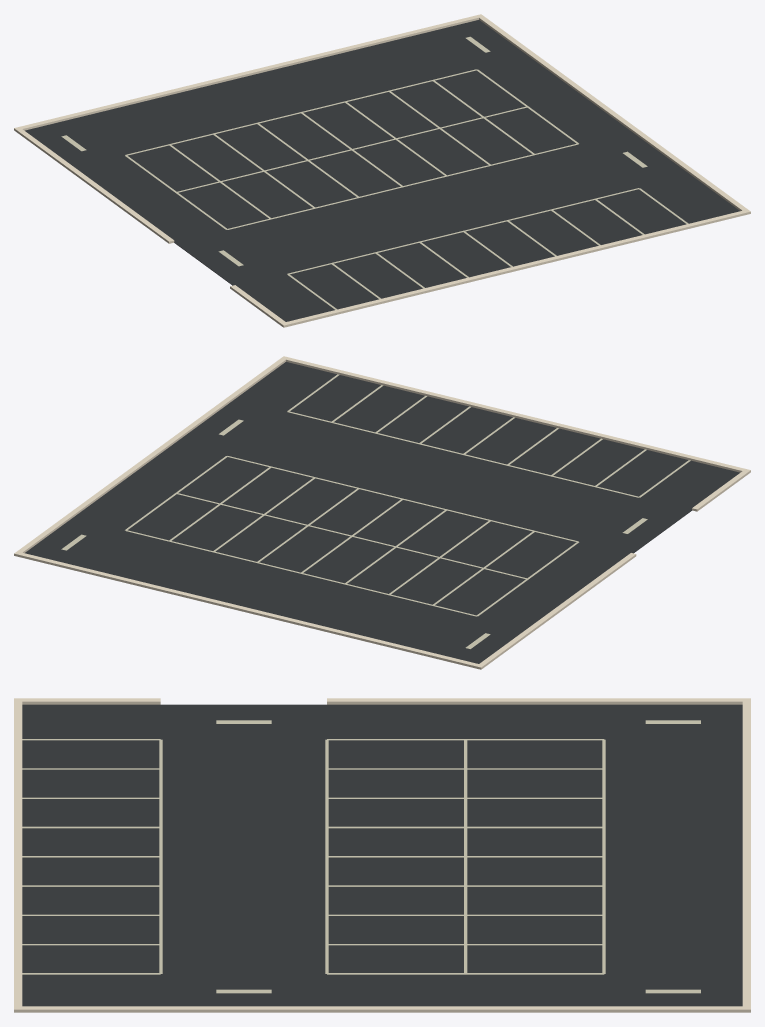
Rendered from oc_parking_01.glb.
The picture shows the model from 3 angles, top to bottom: view 1: azimuth 30°, elevation 25°; view 2: azimuth 150°, elevation 25°; view 3: azimuth 270°, elevation 25°; orthographic projection. The views are drawn at different scales.
Parts seen in each view (by area): view 1: LOD1_OC_Asphalt, LOD1_OC_Stucco_Ivory, LOD1_OC_Line_White; view 2: LOD1_OC_Asphalt, LOD1_OC_Stucco_Ivory, LOD1_OC_Line_White; view 3: LOD1_OC_Asphalt, LOD1_OC_Stucco_Ivory, LOD1_OC_Line_White.
Part boxes in pixels (x1,y1,x2,y2): LOD1_OC_Asphalt: [25, 20, 739, 321]; LOD1_OC_Stucco_Ivory: [14, 14, 750, 327]; LOD1_OC_Line_White: [61, 36, 688, 309]; LOD1_OC_Asphalt: [25, 362, 739, 663]; LOD1_OC_Stucco_Ivory: [14, 356, 750, 669]; LOD1_OC_Line_White: [61, 374, 690, 649]; LOD1_OC_Asphalt: [22, 704, 742, 1006]; LOD1_OC_Stucco_Ivory: [14, 698, 750, 1012]; LOD1_OC_Line_White: [22, 720, 700, 993].
Bounding box in the file's own units: 26.6 × 0.1401 × 26.6.
